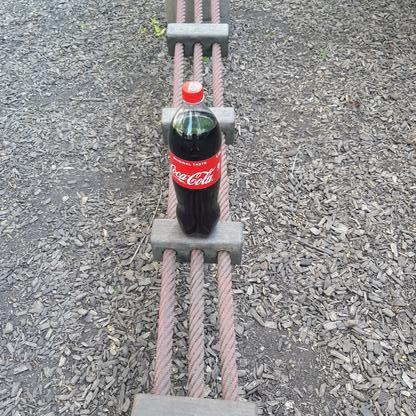coca-cola: (166, 80, 223, 241)
